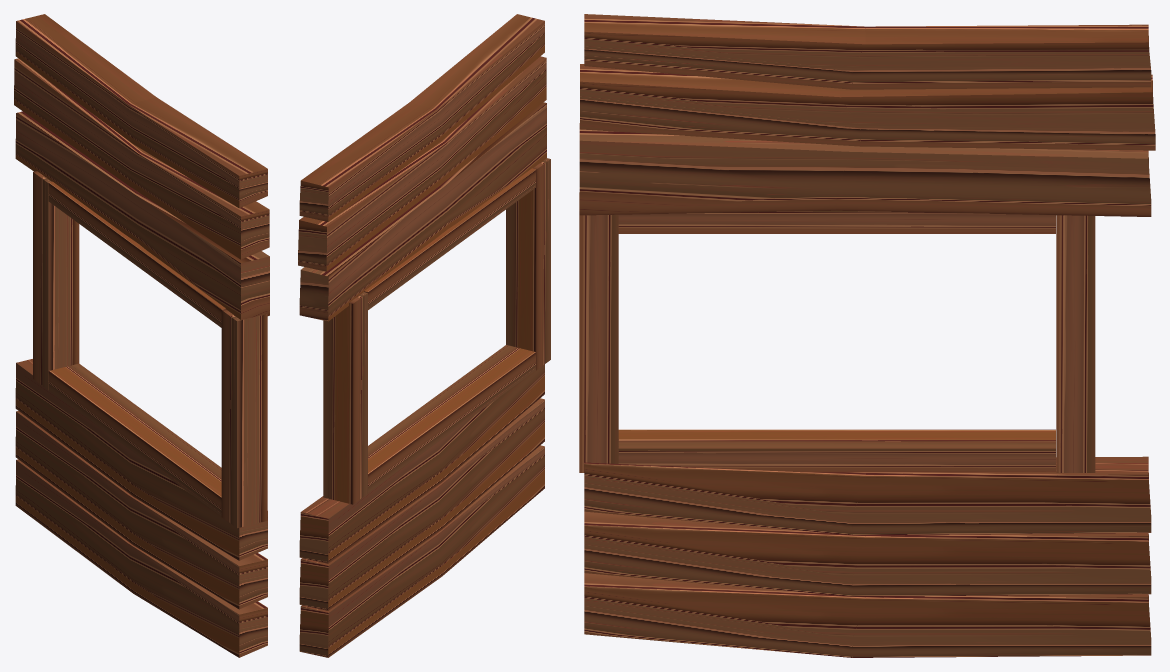
File: MSH_Piso1_Ventana00.FBX
The picture shows the model from 3 angles, left to right: view 1: azimuth 30°, elevation 25°; view 2: azimuth 150°, elevation 25°; view 3: azimuth 270°, elevation 25°; orthographic projection. The views are drawn at different scales.
Visible parts, largest first — view 1: MSH_Piso1_Ventana00; view 2: MSH_Piso1_Ventana00; view 3: MSH_Piso1_Ventana00.
Boxes of the visible parts, box(x1,y1,x2,y2) form: MSH_Piso1_Ventana00: box(14, 14, 269, 657); MSH_Piso1_Ventana00: box(298, 14, 550, 657); MSH_Piso1_Ventana00: box(579, 14, 1155, 657).
Bounding box in the file's own units: 7.46 × 107 × 89.53.
1 material, 1 textured.
